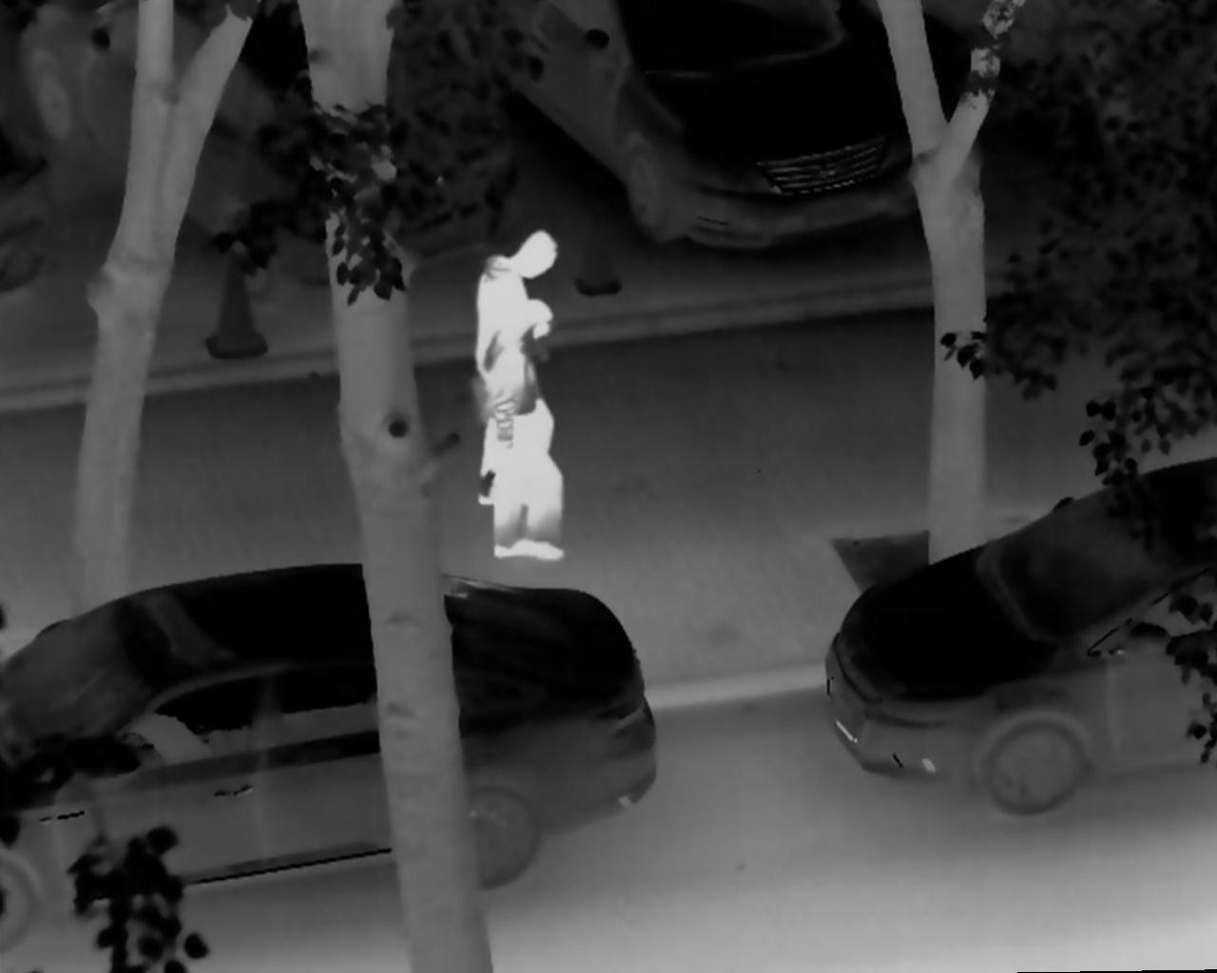person: (460, 229, 574, 508), (487, 296, 570, 569)
